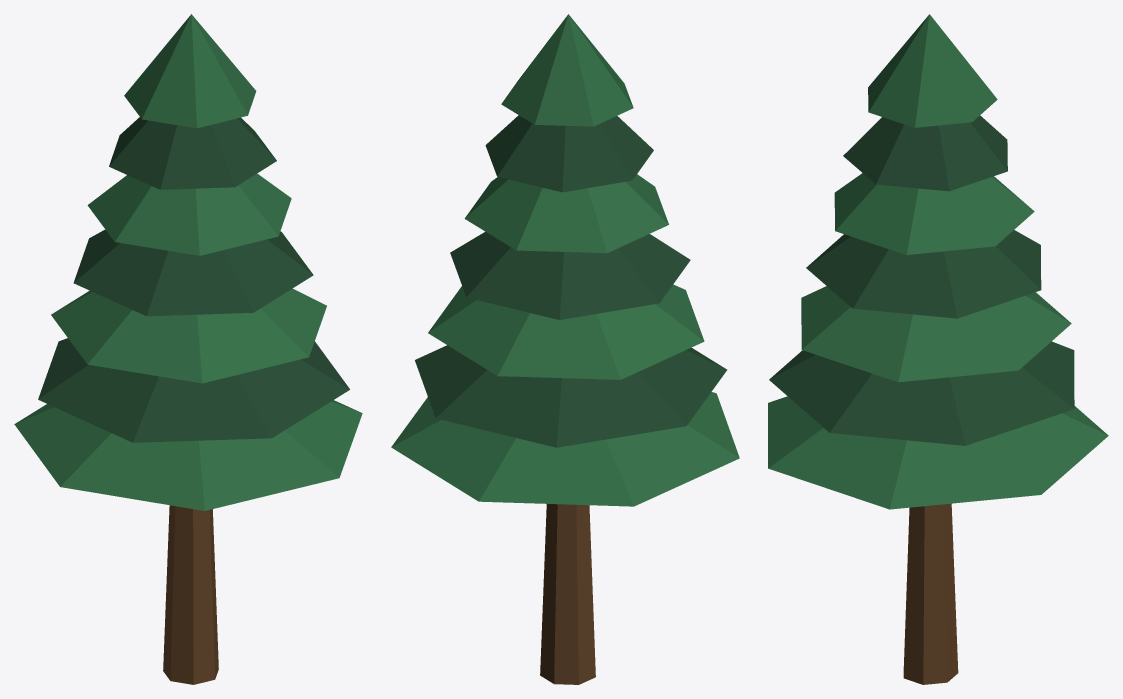
Rendered from arbre_foret_1.glb.
3 views of the same model, side by side, from view 1: azimuth 30°, elevation 25°; view 2: azimuth 150°, elevation 25°; view 3: azimuth 270°, elevation 25° (orthographic).
Visible parts, largest first — view 1: pin_etage_0.002, pin_etage_1.002, pin_etage_2.002, pin_etage_3.002, pin_etage_4.002, pin_etage_5.001, pin_etage_6.001, pin_tronc.002; view 2: pin_etage_0.002, pin_etage_1.002, pin_etage_2.002, pin_etage_3.002, pin_etage_4.002, pin_etage_5.001, pin_tronc.002, pin_etage_6.001; view 3: pin_etage_0.002, pin_etage_1.002, pin_etage_2.002, pin_etage_3.002, pin_etage_4.002, pin_etage_5.001, pin_tronc.002, pin_etage_6.001.
Part boxes in pixels (x1,y1,x2,y2): pin_etage_0.002: (14,400,362,510); pin_etage_1.002: (38,338,349,442); pin_etage_2.002: (51,288,326,383); pin_etage_3.002: (73,229,313,316); pin_etage_4.002: (87,173,291,255); pin_etage_5.001: (109,117,276,189); pin_etage_6.001: (124,14,256,128); pin_tronc.002: (163,505,218,684); pin_etage_0.002: (391,392,739,506); pin_etage_1.002: (415,345,727,447); pin_etage_2.002: (428,284,704,379); pin_etage_3.002: (450,231,690,319); pin_etage_4.002: (464,174,668,253); pin_etage_5.001: (485,115,653,192); pin_tronc.002: (540,504,595,684); pin_etage_6.001: (501,14,633,126); pin_etage_0.002: (768,396,1108,509); pin_etage_1.002: (769,341,1074,445); pin_etage_2.002: (801,286,1071,382); pin_etage_3.002: (806,230,1041,318); pin_etage_4.002: (834,173,1034,254); pin_etage_5.001: (843,115,1007,191); pin_tronc.002: (903,503,958,684); pin_etage_6.001: (868,14,997,127).
Bounding box in the file's own units: 2.53 × 5.27 × 2.47.
